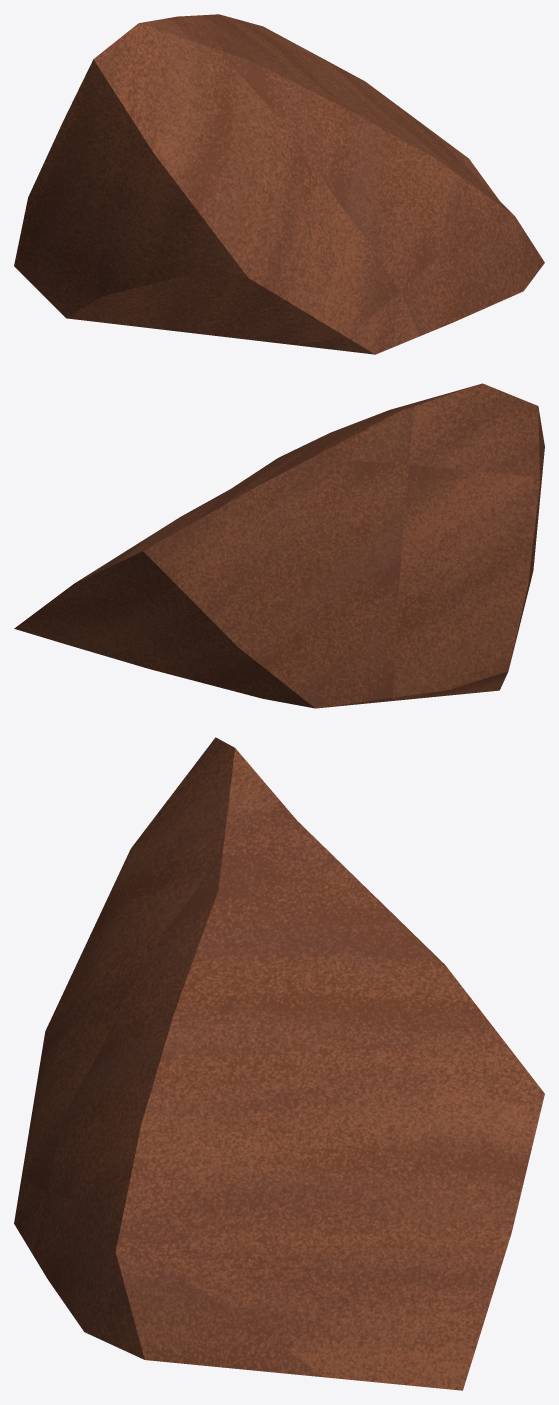
Rendered from Rock7.fbx.
3 views of the same model, one above another, from view 1: azimuth 30°, elevation 25°; view 2: azimuth 150°, elevation 25°; view 3: azimuth 270°, elevation 25° (orthographic). The views are drawn at different scales.
Parts seen in each view (by area): view 1: polySurface2; view 2: polySurface2; view 3: polySurface2.
Part boxes in pixels (x1,y1,x2,y2): polySurface2: [14, 14, 544, 354]; polySurface2: [14, 383, 544, 708]; polySurface2: [14, 737, 544, 1390].
Size of the model in its own units: 8.56 by 4.97 by 6.23.
